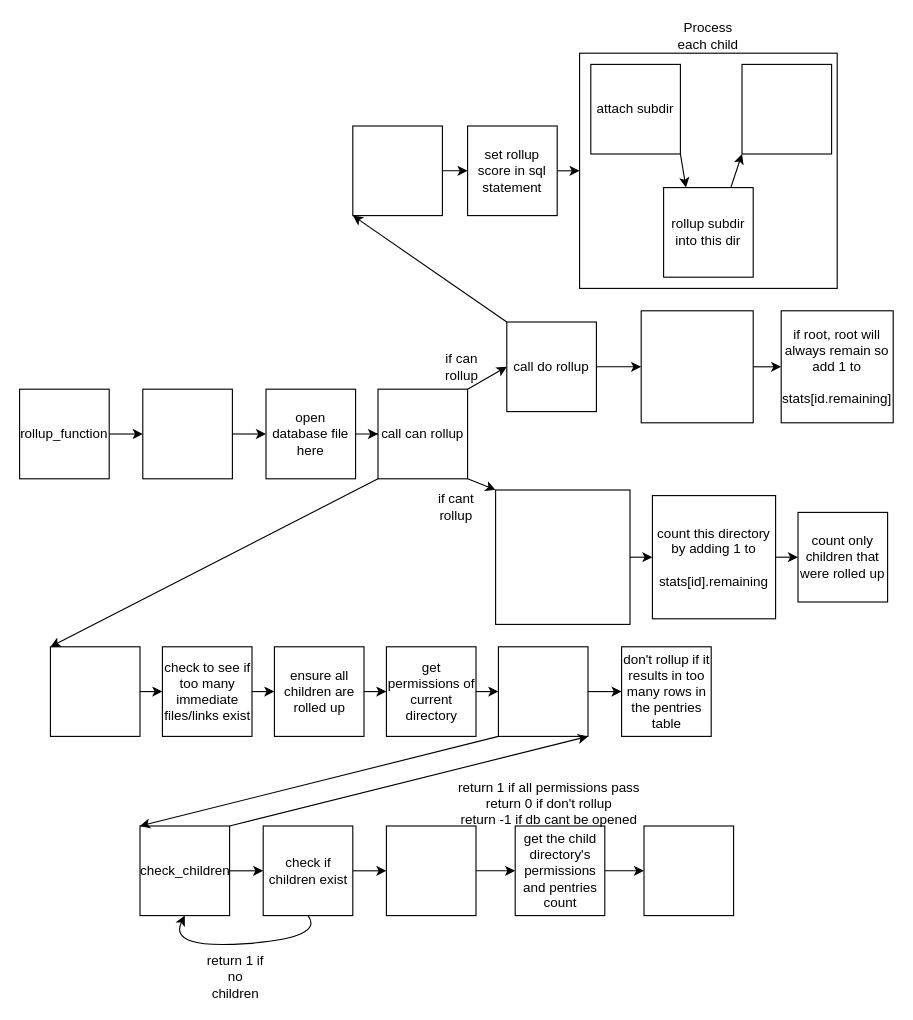
This 913x1020 diagram has some shape labels left out. Here are the shapes that lost their labels. From the top down, the box of each, then its label:
(741, 63, 832, 154): detach subdir
(352, 125, 442, 216): do rollup
(640, 310, 753, 423): push directory to stats[id].rolled_up
(142, 388, 232, 479): retrieve statistics from bottom up
(494, 489, 630, 624): push directory to stats[id].not_rolled_up
(49, 646, 140, 736): can_rollup
(497, 646, 588, 736): call check_children
(385, 825, 476, 916): get children permissions
(643, 825, 734, 916): check child permissions match parents
